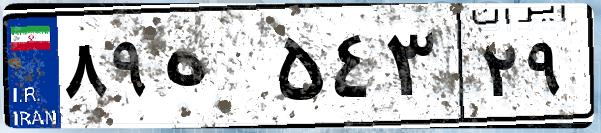2: (475, 38, 525, 113)
3: (385, 28, 445, 110)
4: (330, 28, 385, 110)
5: (270, 28, 330, 110)
8: (57, 26, 110, 100)
9: (525, 38, 570, 115), (110, 28, 158, 98)
ه: (158, 20, 270, 120)
